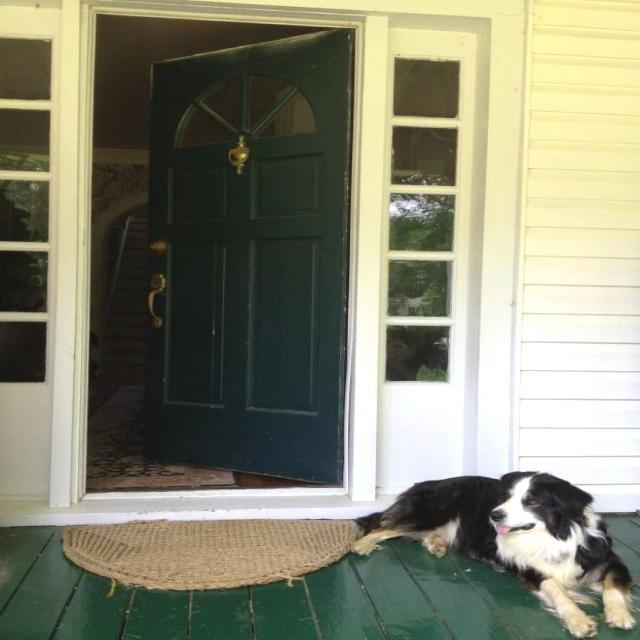door: (143, 28, 352, 485)
